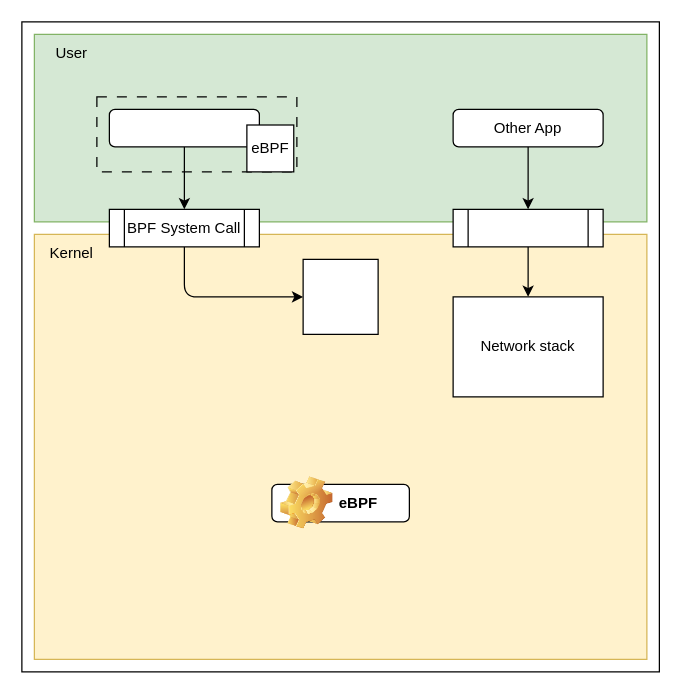
This 681x694 diagram has some shape labels left out. Each missing label, with the box of its shape:
App: (108, 108, 259, 147)
Maps: (302, 258, 378, 334)
System Call: (452, 208, 603, 247)
